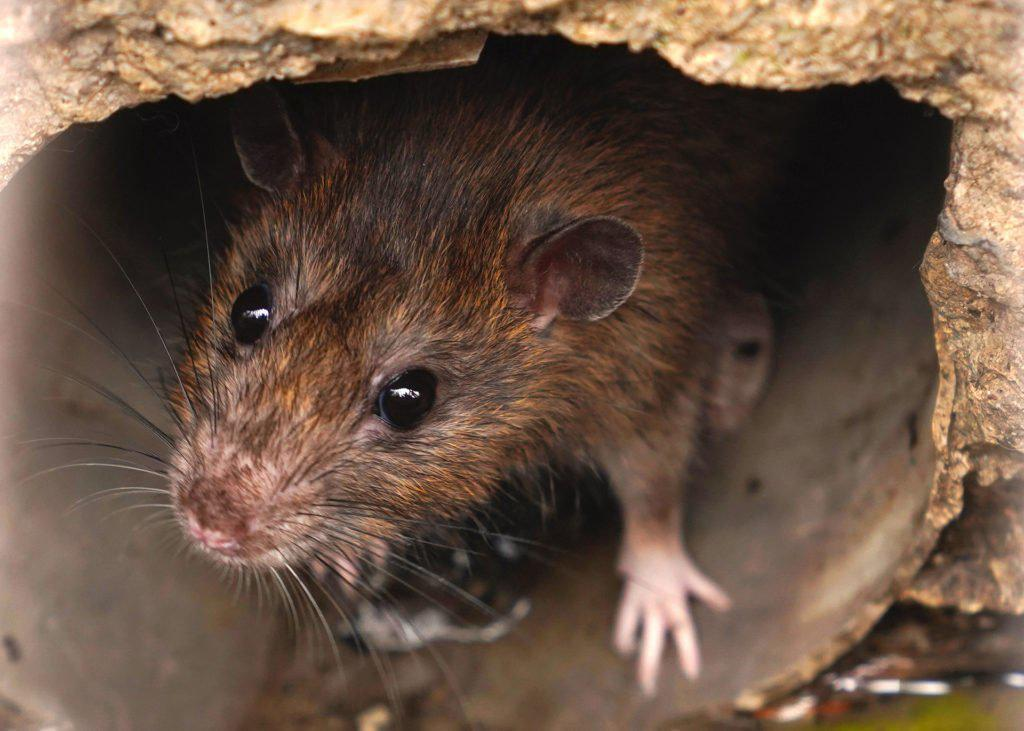rat: (166, 75, 826, 698)
